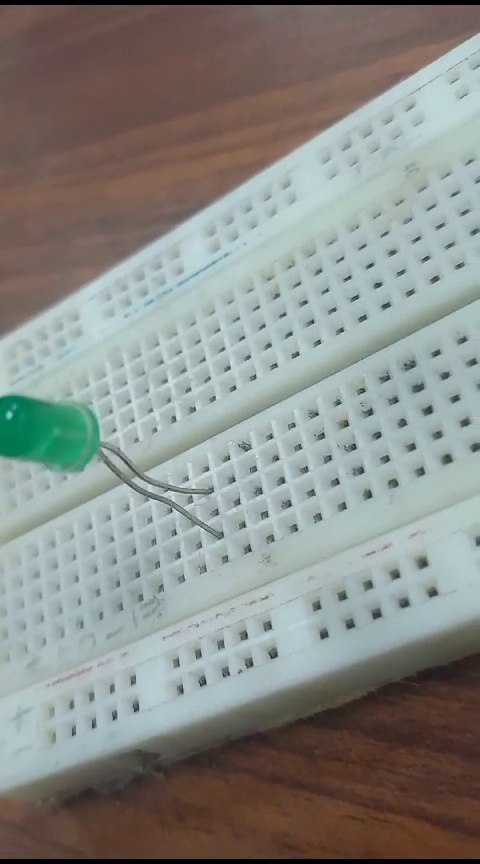LED: (4, 379, 234, 548)
